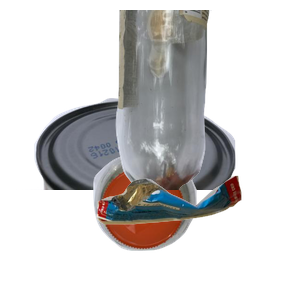glass: (113, 10, 300, 190)
metal: (16, 96, 244, 276)
plastic: (91, 152, 281, 300)
trash: (94, 173, 300, 300)
